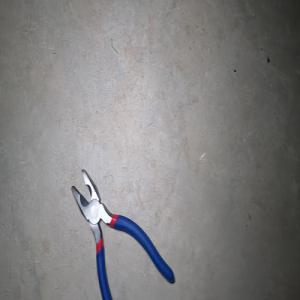Pliers: (71, 168, 175, 300)
